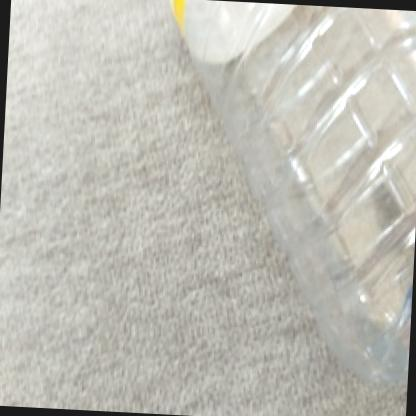plastic_bottles: (112, 0, 416, 386)
